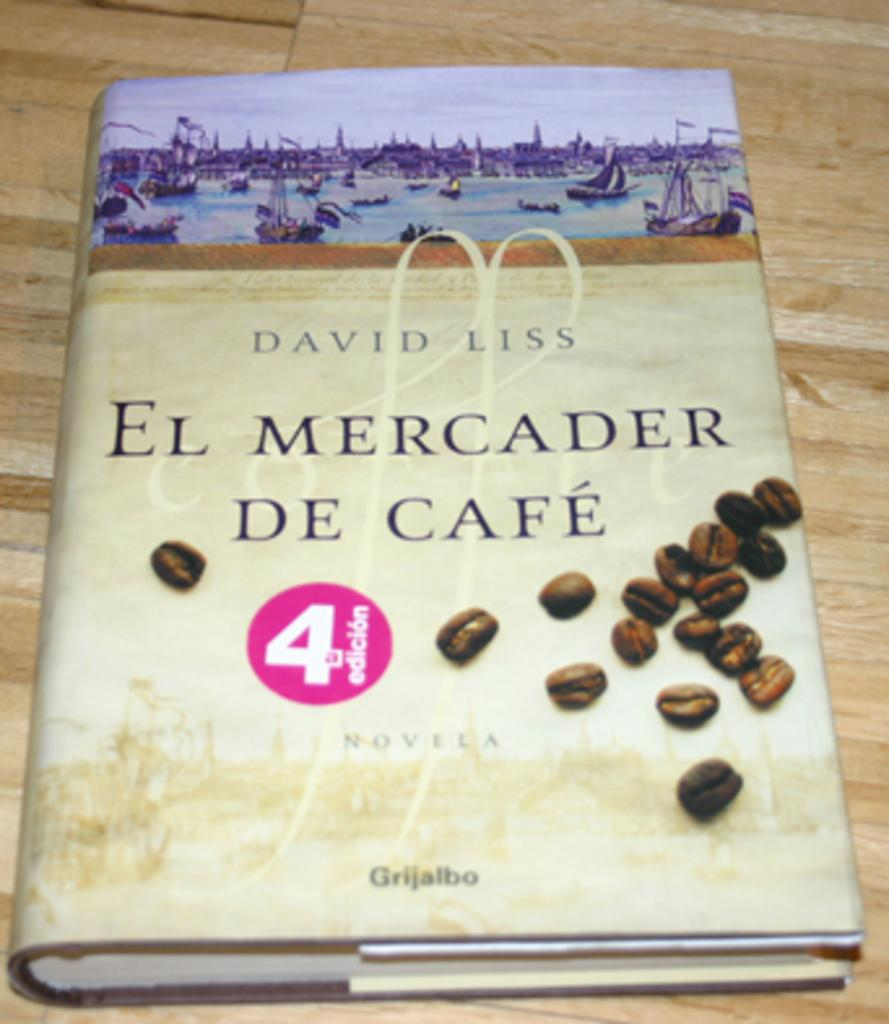book: (5, 60, 868, 1008)
